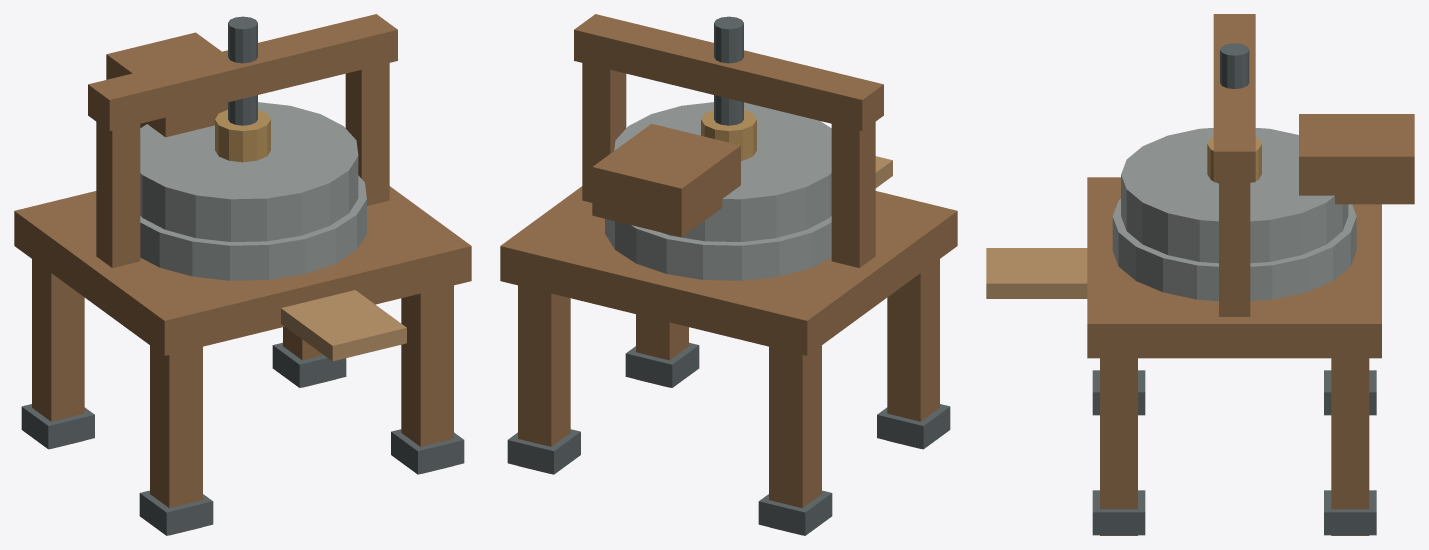
Rendered from vf_recipe_mill.glb.
The picture shows the model from 3 angles, left to right: view 1: azimuth 30°, elevation 25°; view 2: azimuth 150°, elevation 25°; view 3: azimuth 270°, elevation 25°; orthographic projection. The views are drawn at different scales.
Visible parts, largest first — view 1: Static, Millstone; view 2: Static, Millstone; view 3: Static, Millstone.
Boxes of the visible parts, <box> form: Static: <box>14,14,471,535</box>; Millstone: <box>140,102,358,241</box>; Static: <box>500,14,957,535</box>; Millstone: <box>614,102,831,241</box>; Static: <box>986,14,1414,535</box>; Millstone: <box>1121,128,1348,263</box>.
Size of the model in its own units: 1.65 by 2.19 by 2.03.
